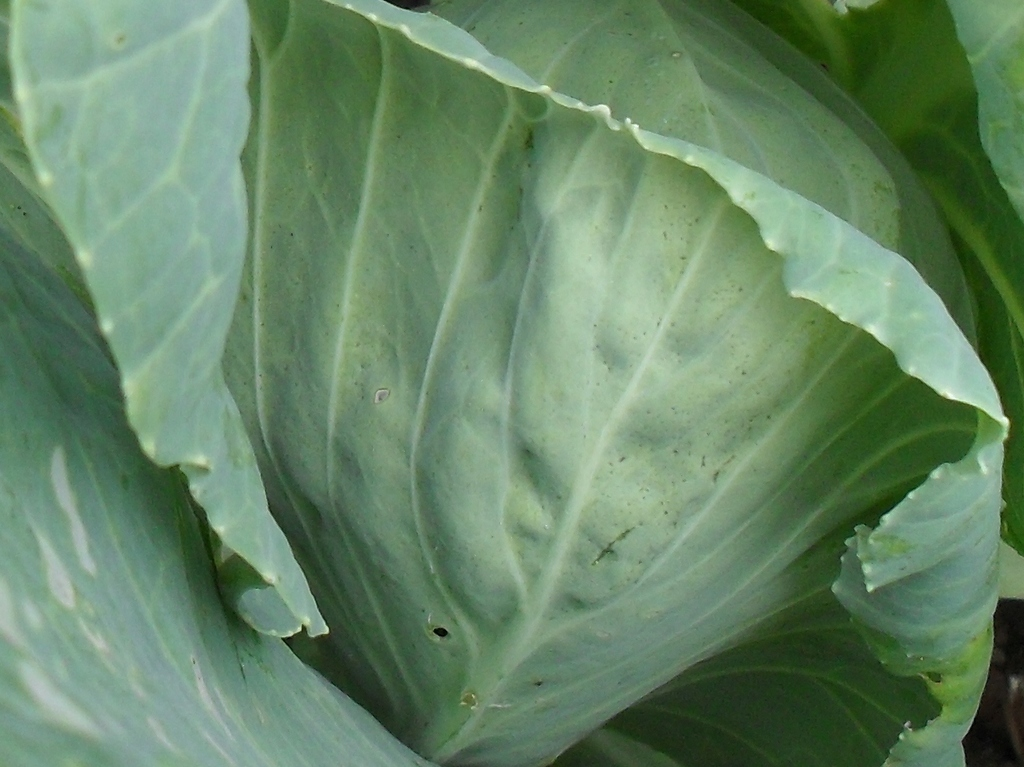Cabbage: (0, 0, 1023, 766)
